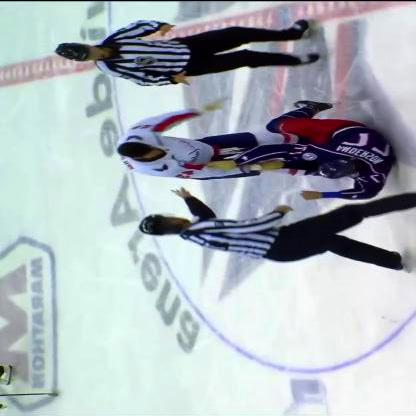non-Voilence: (52, 15, 315, 90)
voilence: (105, 100, 394, 200)
